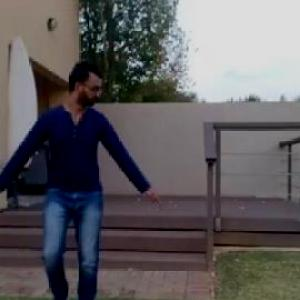land: (1, 55, 173, 299)
